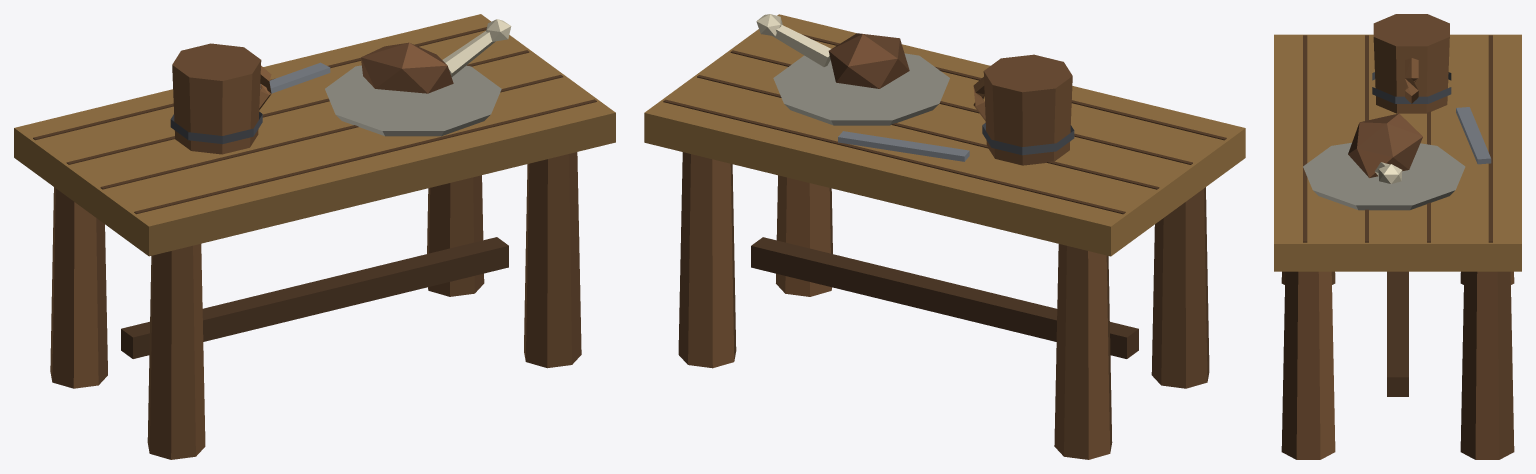
Rendered from giant_table.glb.
The picture shows the model from 3 angles, left to right: view 1: azimuth 30°, elevation 25°; view 2: azimuth 150°, elevation 25°; view 3: azimuth 270°, elevation 25°; orthographic projection. The views are drawn at different scales.
Parts seen in each view (by area): view 1: giant_table; view 2: giant_table; view 3: giant_table.
Boxes of the visible parts, box(x1,y1,x2,y2) form: giant_table: box(14, 14, 615, 459); giant_table: box(644, 14, 1245, 459); giant_table: box(1274, 14, 1521, 459).
Bounding box in the file's own units: 3.6 × 2.36 × 1.8.
